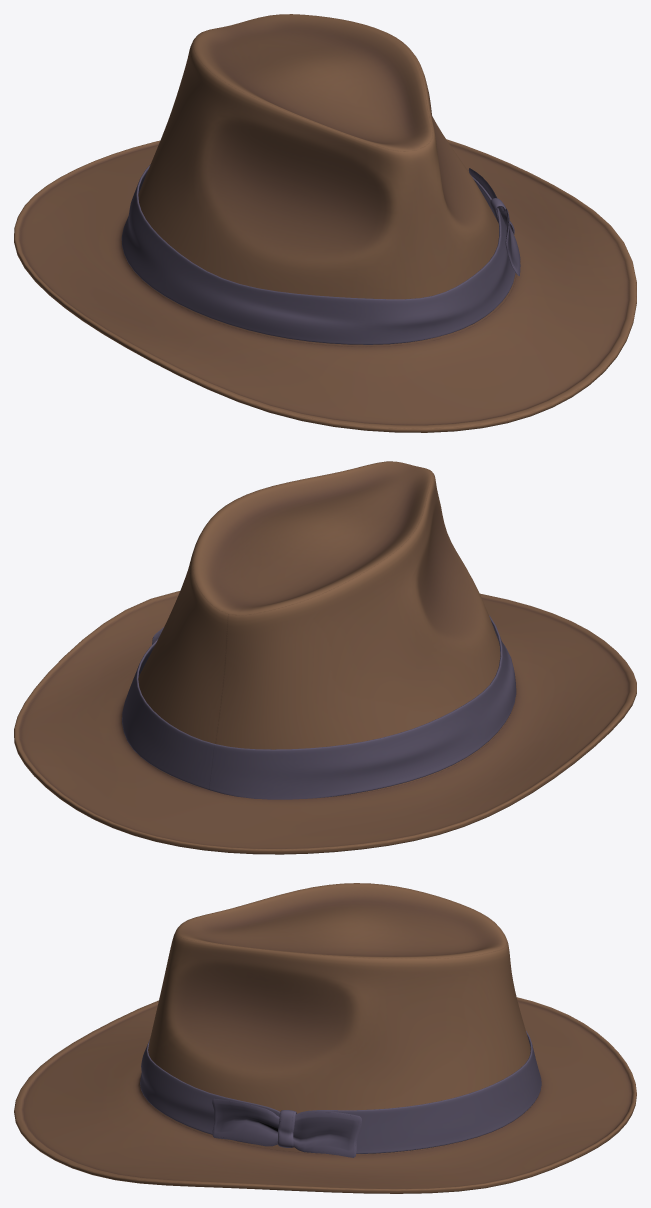
File: Hat.fbx
3 renders of one model, top to bottom at view 1: azimuth 30°, elevation 25°; view 2: azimuth 150°, elevation 25°; view 3: azimuth 270°, elevation 25°, orthographic. The views are drawn at different scales.
Parts seen in each view (by area): view 1: Hat; view 2: Hat; view 3: Hat.
Boxes of the visible parts, x1=… form: Hat: x1=14, y1=14, x2=636, y2=432; Hat: x1=14, y1=461, x2=636, y2=854; Hat: x1=14, y1=883, x2=636, y2=1193.
Size of the model in its own units: 0.7459 by 0.3175 by 0.925.
